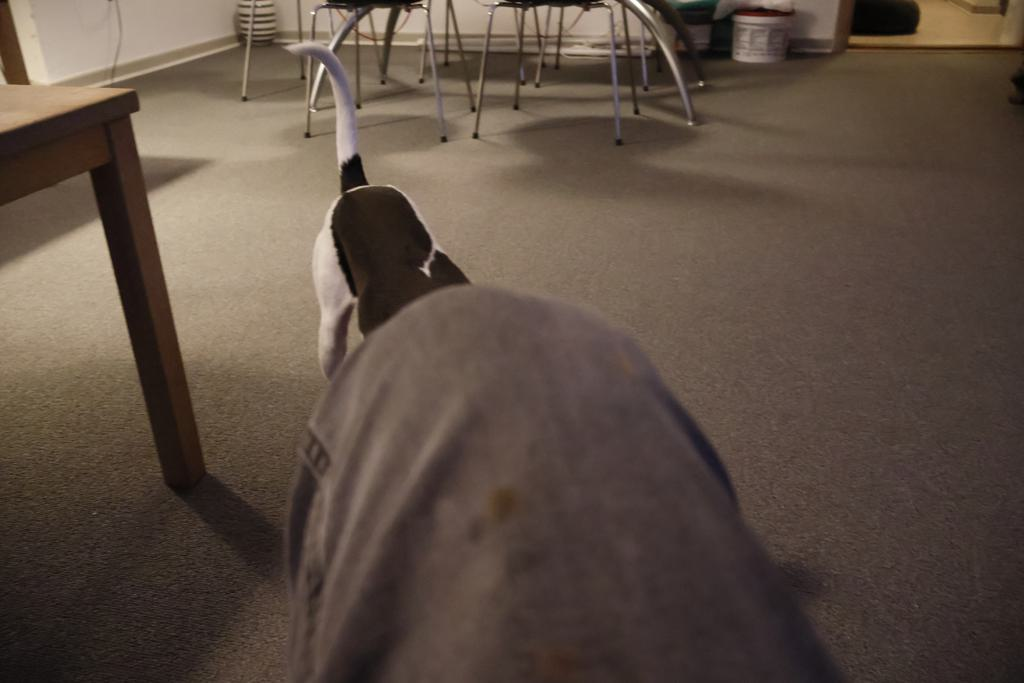Dog: (272, 32, 485, 392)
Humanoid: (269, 263, 862, 683)
